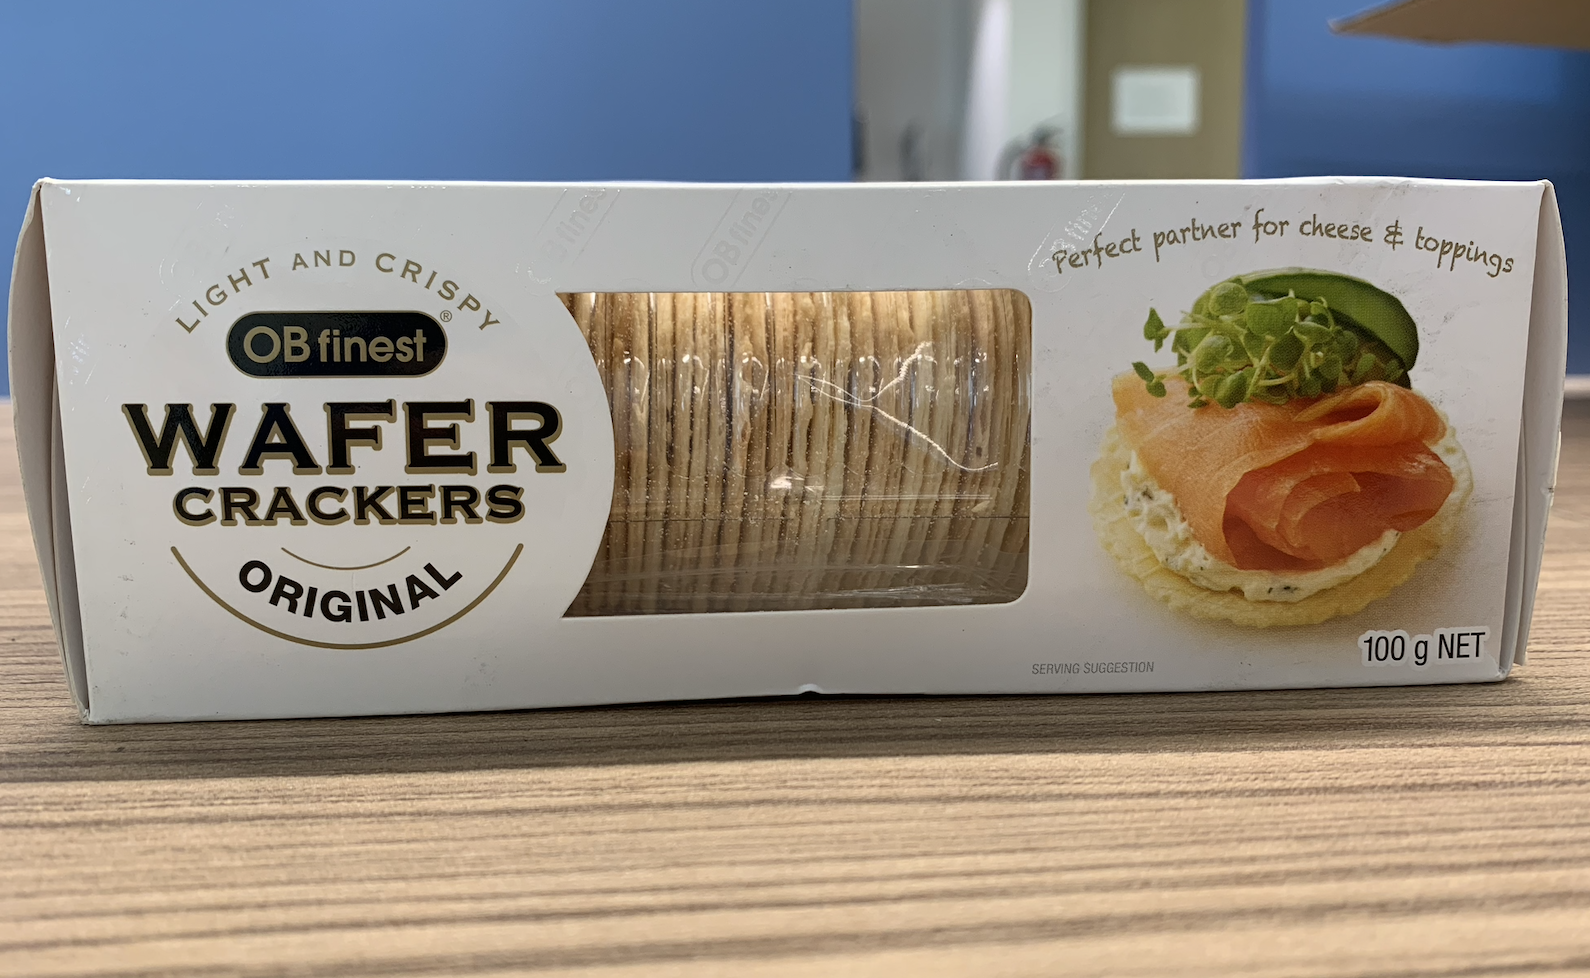crackers_100g-199g: (103, 197, 1509, 678)
